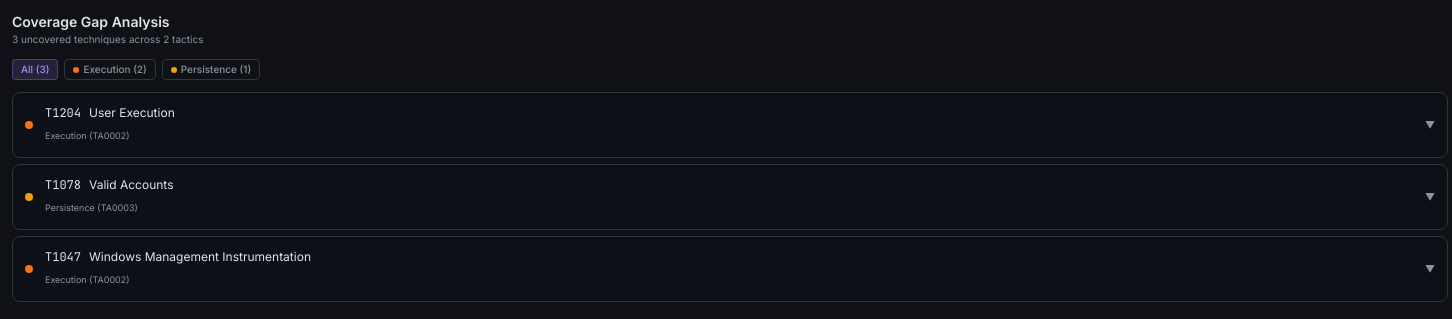
CoverageGapAnalysis › filters gaps by tactic when filter button is clicked
Check: the text "T1204" is shown, box top-left (45, 105), bottom-right (81, 121)
Check: the text "T1047" is shown, box top-left (45, 249), bottom-right (81, 265)
// Click Execution filter - match the filter button specifically
Click the button "Execution (2)" at (110,70), box top-left (64, 59), bottom-right (156, 80)
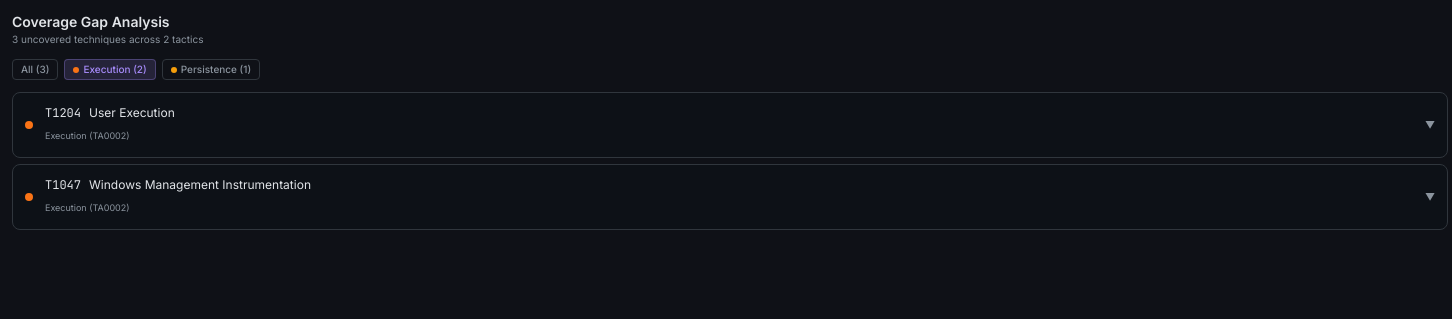
Check: the button "T1078" is gone
